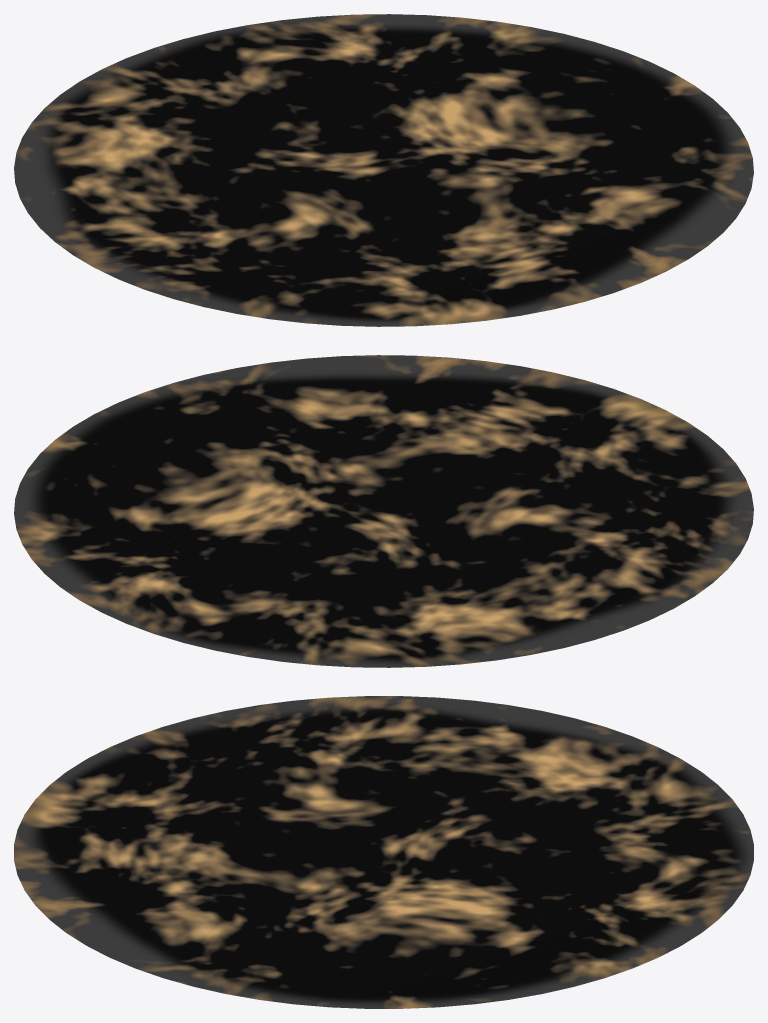
Rendered from Assiette.fbx.
3 views of the same model, one above another, from view 1: azimuth 30°, elevation 25°; view 2: azimuth 150°, elevation 25°; view 3: azimuth 270°, elevation 25° (orthographic).
Parts seen in each view (by area): view 1: Circle.001; view 2: Circle.001; view 3: Circle.001.
Boxes of the visible parts, x1,y1,x2,y2 form: Circle.001: (14, 14, 753, 326); Circle.001: (14, 355, 753, 667); Circle.001: (14, 696, 753, 1008).
Bounding box in the file's own units: 27.14 × 0.0536 × 27.14.
1 material, 1 textured.
